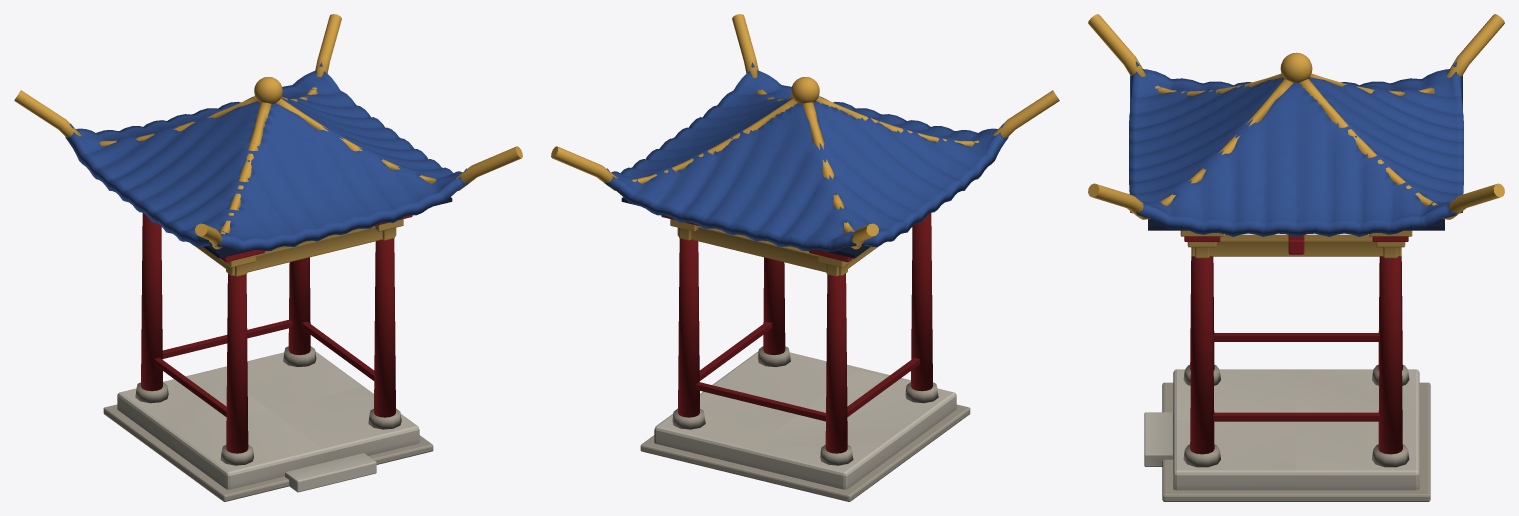
The model's file is chuong.glb.
The picture shows the model from 3 angles, left to right: view 1: azimuth 30°, elevation 25°; view 2: azimuth 150°, elevation 25°; view 3: azimuth 270°, elevation 25°; orthographic projection. The views are drawn at different scales.
Visible parts, largest first — view 1: chuong-shell; view 2: chuong-shell; view 3: chuong-shell.
Part boxes in pixels (x1,y1,x2,y2): chuong-shell: (14,14,522,501); chuong-shell: (551,14,1059,501); chuong-shell: (1088,14,1504,501).
Size of the model in its own units: 5.76 by 5.97 by 5.76.
